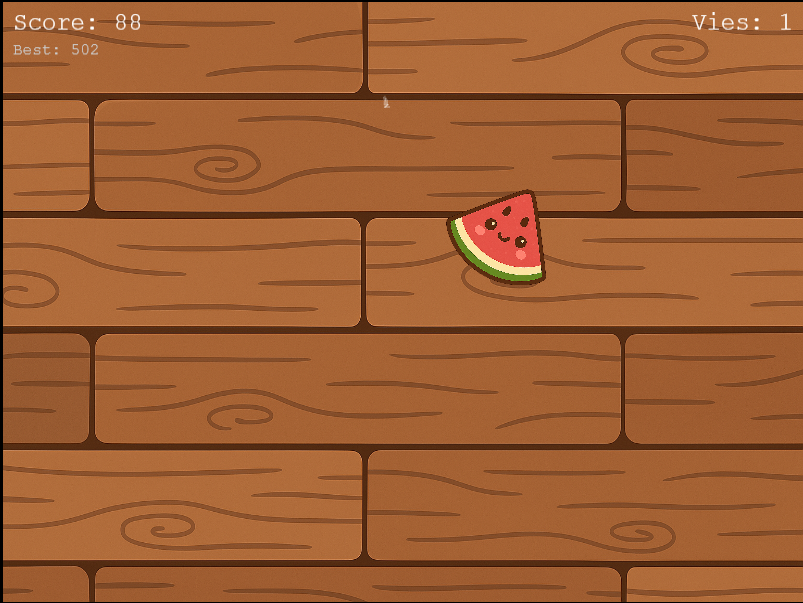fruit: (445, 187, 552, 292)
